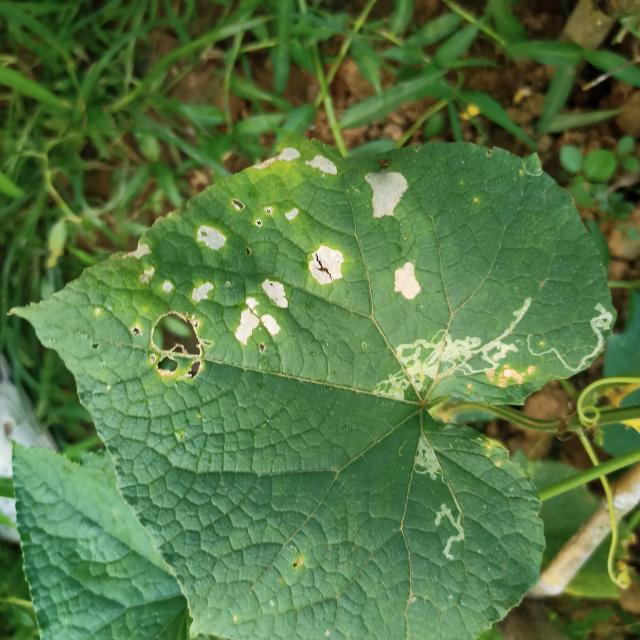disease_cucumber: (129, 141, 349, 403), (364, 167, 424, 306)
